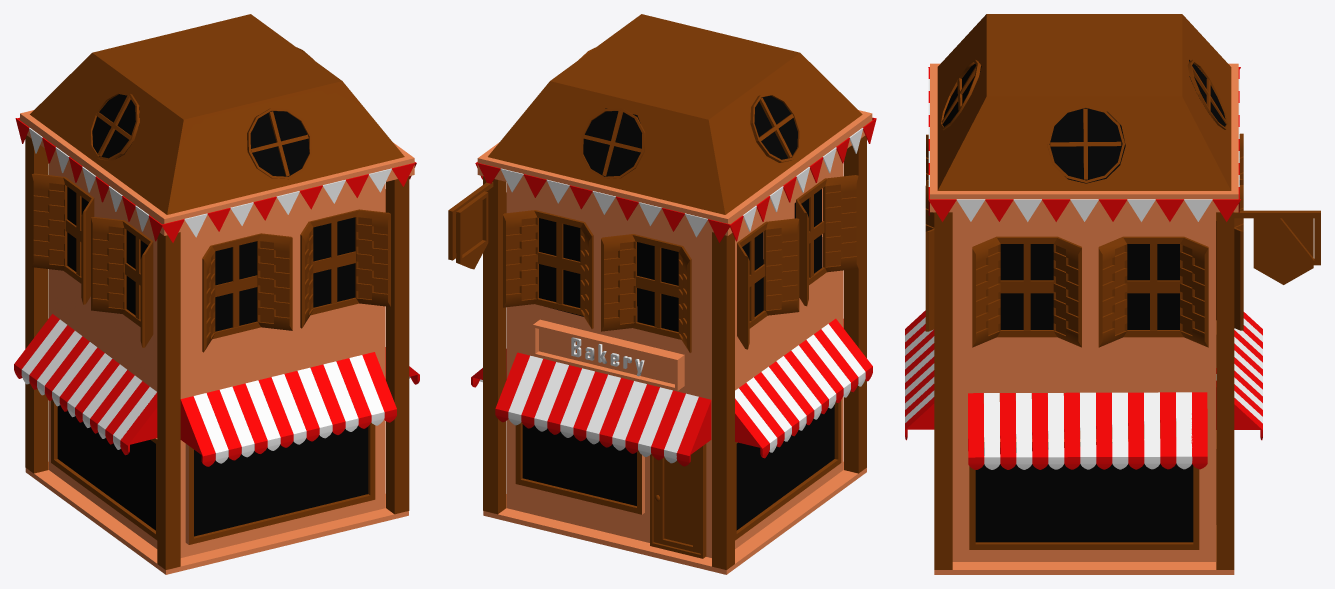
Rendered from housebakery.fbx.
3 renders of one model, left to right at view 1: azimuth 30°, elevation 25°; view 2: azimuth 150°, elevation 25°; view 3: azimuth 270°, elevation 25°, orthographic. The views are drawn at different scales.
Parts seen in each view (by area): view 1: housebakery; view 2: housebakery, panneaucollection_7; view 3: housebakery.
Part boxes in pixels (box(x1,y1,x2,y2)): housebakery: box(14, 14, 419, 574); housebakery: box(448, 14, 876, 574); panneaucollection_7: box(571, 337, 644, 376); housebakery: box(905, 14, 1320, 574).
Bounding box in the file's own units: 548 × 761 × 629.
